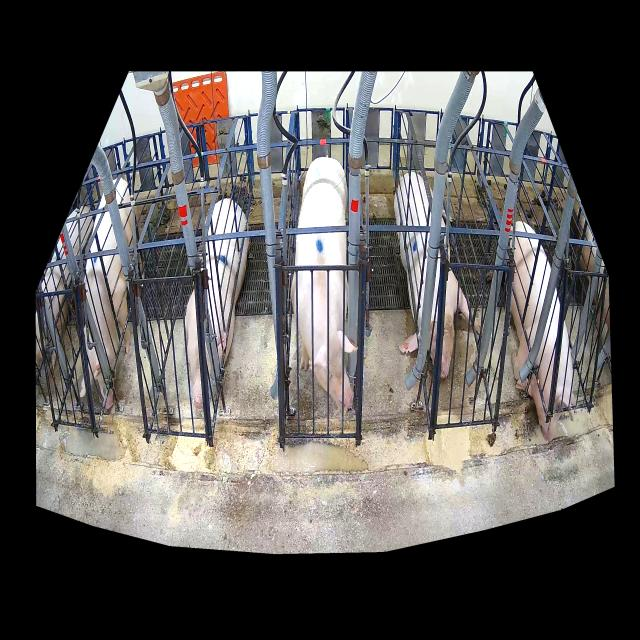pig: (291, 157, 357, 411), (394, 172, 469, 378), (511, 221, 576, 441), (185, 198, 249, 409), (80, 177, 134, 408)
